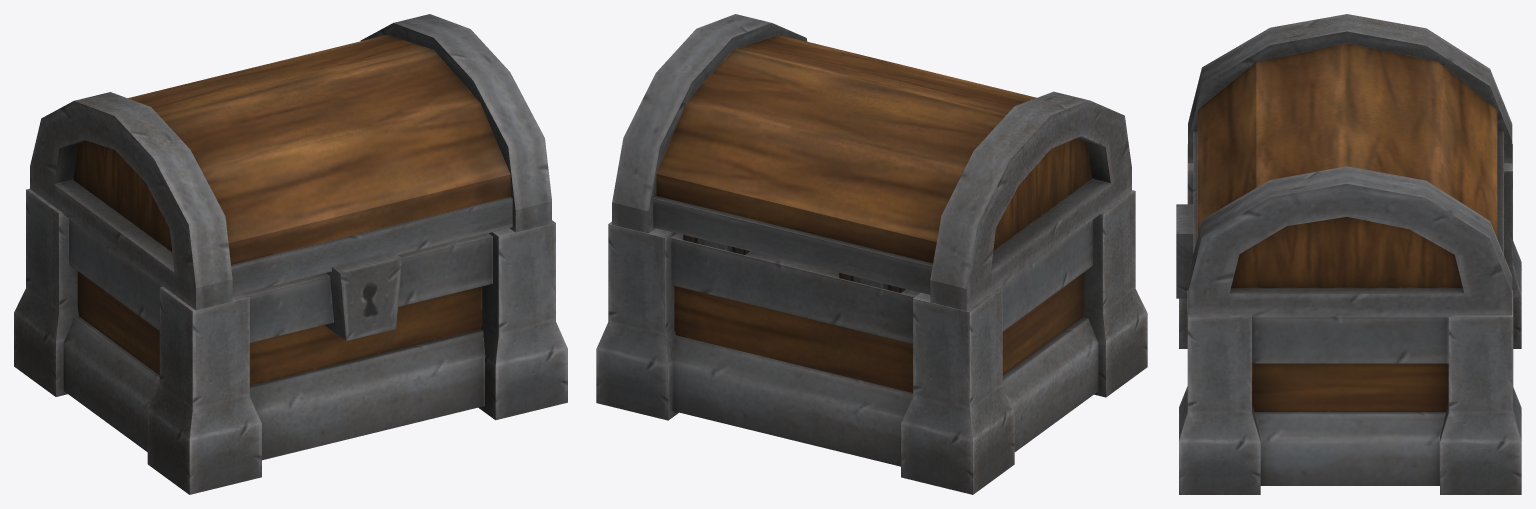
File: modelChest.fbx
The picture shows the model from 3 angles, left to right: view 1: azimuth 30°, elevation 25°; view 2: azimuth 150°, elevation 25°; view 3: azimuth 270°, elevation 25°; orthographic projection. The views are drawn at different scales.
Visible parts, largest first — view 1: modelChest_top, modelChest_down; view 2: modelChest_top, modelChest_down; view 3: modelChest_top, modelChest_down.
Boxes of the visible parts, x1=… form: modelChest_top: x1=30, y1=14, x2=551, y2=310; modelChest_down: x1=14, y1=188, x2=567, y2=494; modelChest_top: x1=612, y1=14, x2=1131, y2=310; modelChest_down: x1=596, y1=190, x2=1147, y2=494; modelChest_top: x1=1188, y1=14, x2=1512, y2=316; modelChest_down: x1=1176, y1=144, x2=1521, y2=494.
Bounding box in the file's own units: 11.6 × 9.18 × 9.38.
